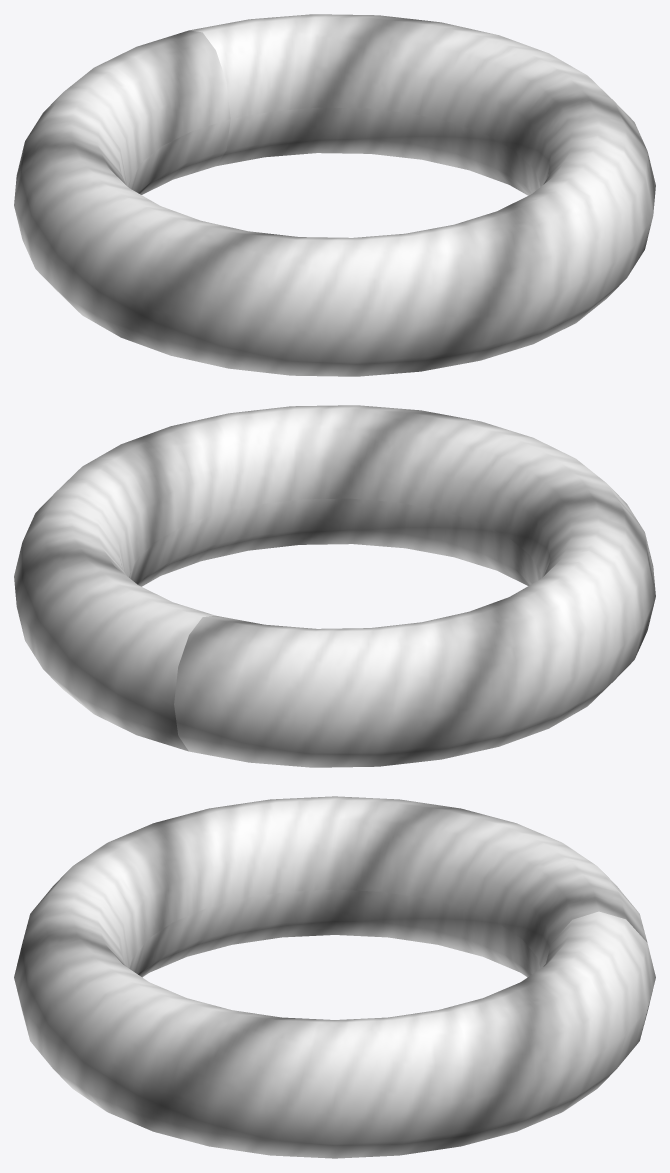
Rendered from Rope_Circle.fbx.
3 views of the same model, one above another, from view 1: azimuth 30°, elevation 25°; view 2: azimuth 150°, elevation 25°; view 3: azimuth 270°, elevation 25° (orthographic).
Visible parts, largest first — view 1: Rope_Circle; view 2: Rope_Circle; view 3: Rope_Circle.
Boxes of the visible parts, x1,y1,x2,y2 form: Rope_Circle: (14, 14, 655, 376); Rope_Circle: (14, 405, 655, 767); Rope_Circle: (14, 796, 655, 1158).
Bounding box in the file's own units: 0.1251 × 0.0284 × 0.1251.
